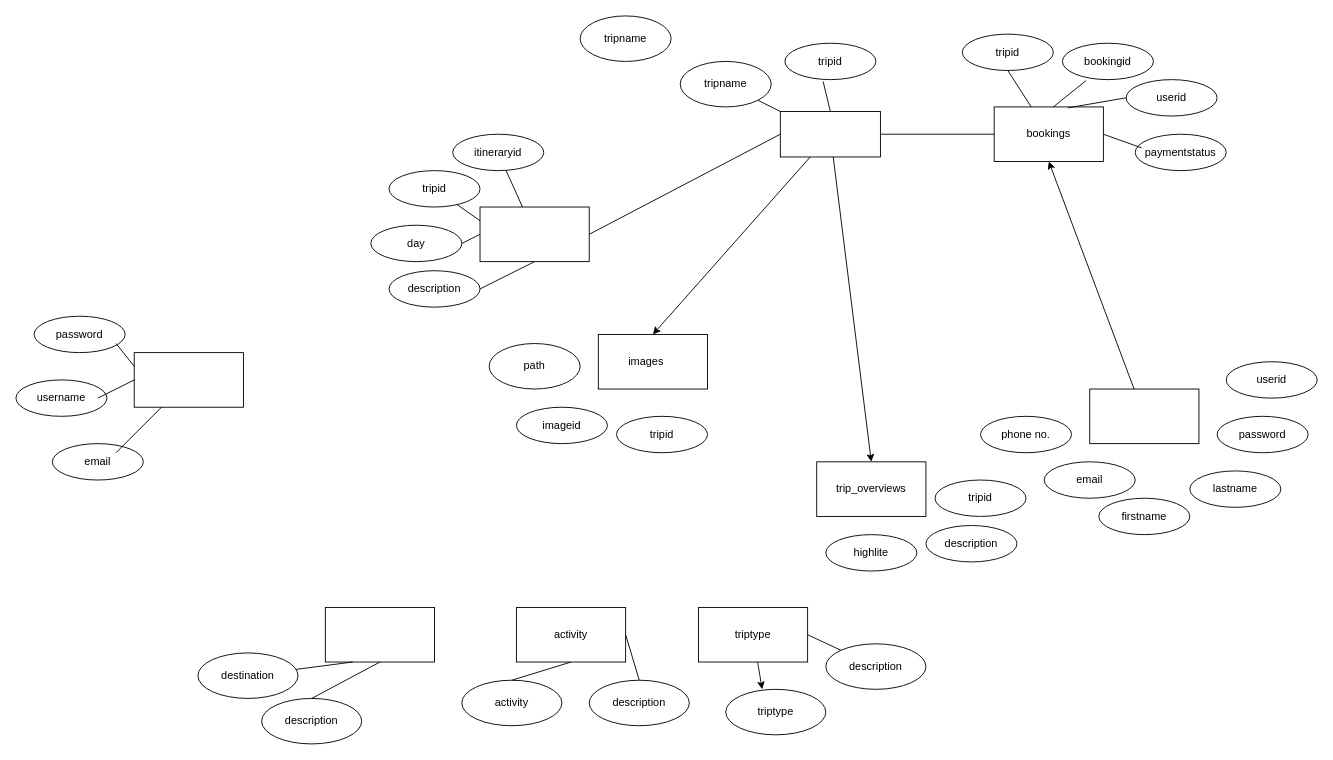
The diagram is 1333 pixels wide and 760 high, and some of its shapes have lost their labels. The centre of each missing label's shape, as x and y in pixels:
"admin" belongs at [188,379].
"destinations" belongs at [379,634].
"itinerary" belongs at [534,234].
"trips" belongs at [829,134].
"users" belongs at [1144,416].
